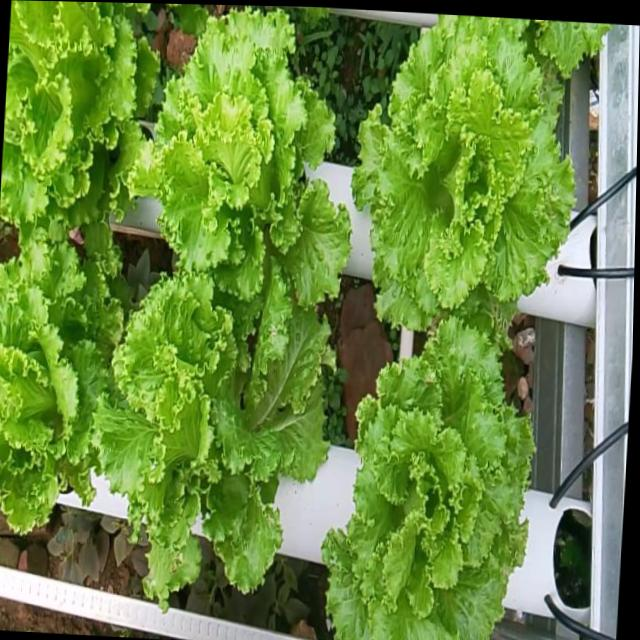Mature: (95, 271, 328, 630), (350, 14, 593, 333), (321, 315, 534, 640), (128, 8, 350, 308), (0, 0, 156, 258), (0, 242, 120, 535)
